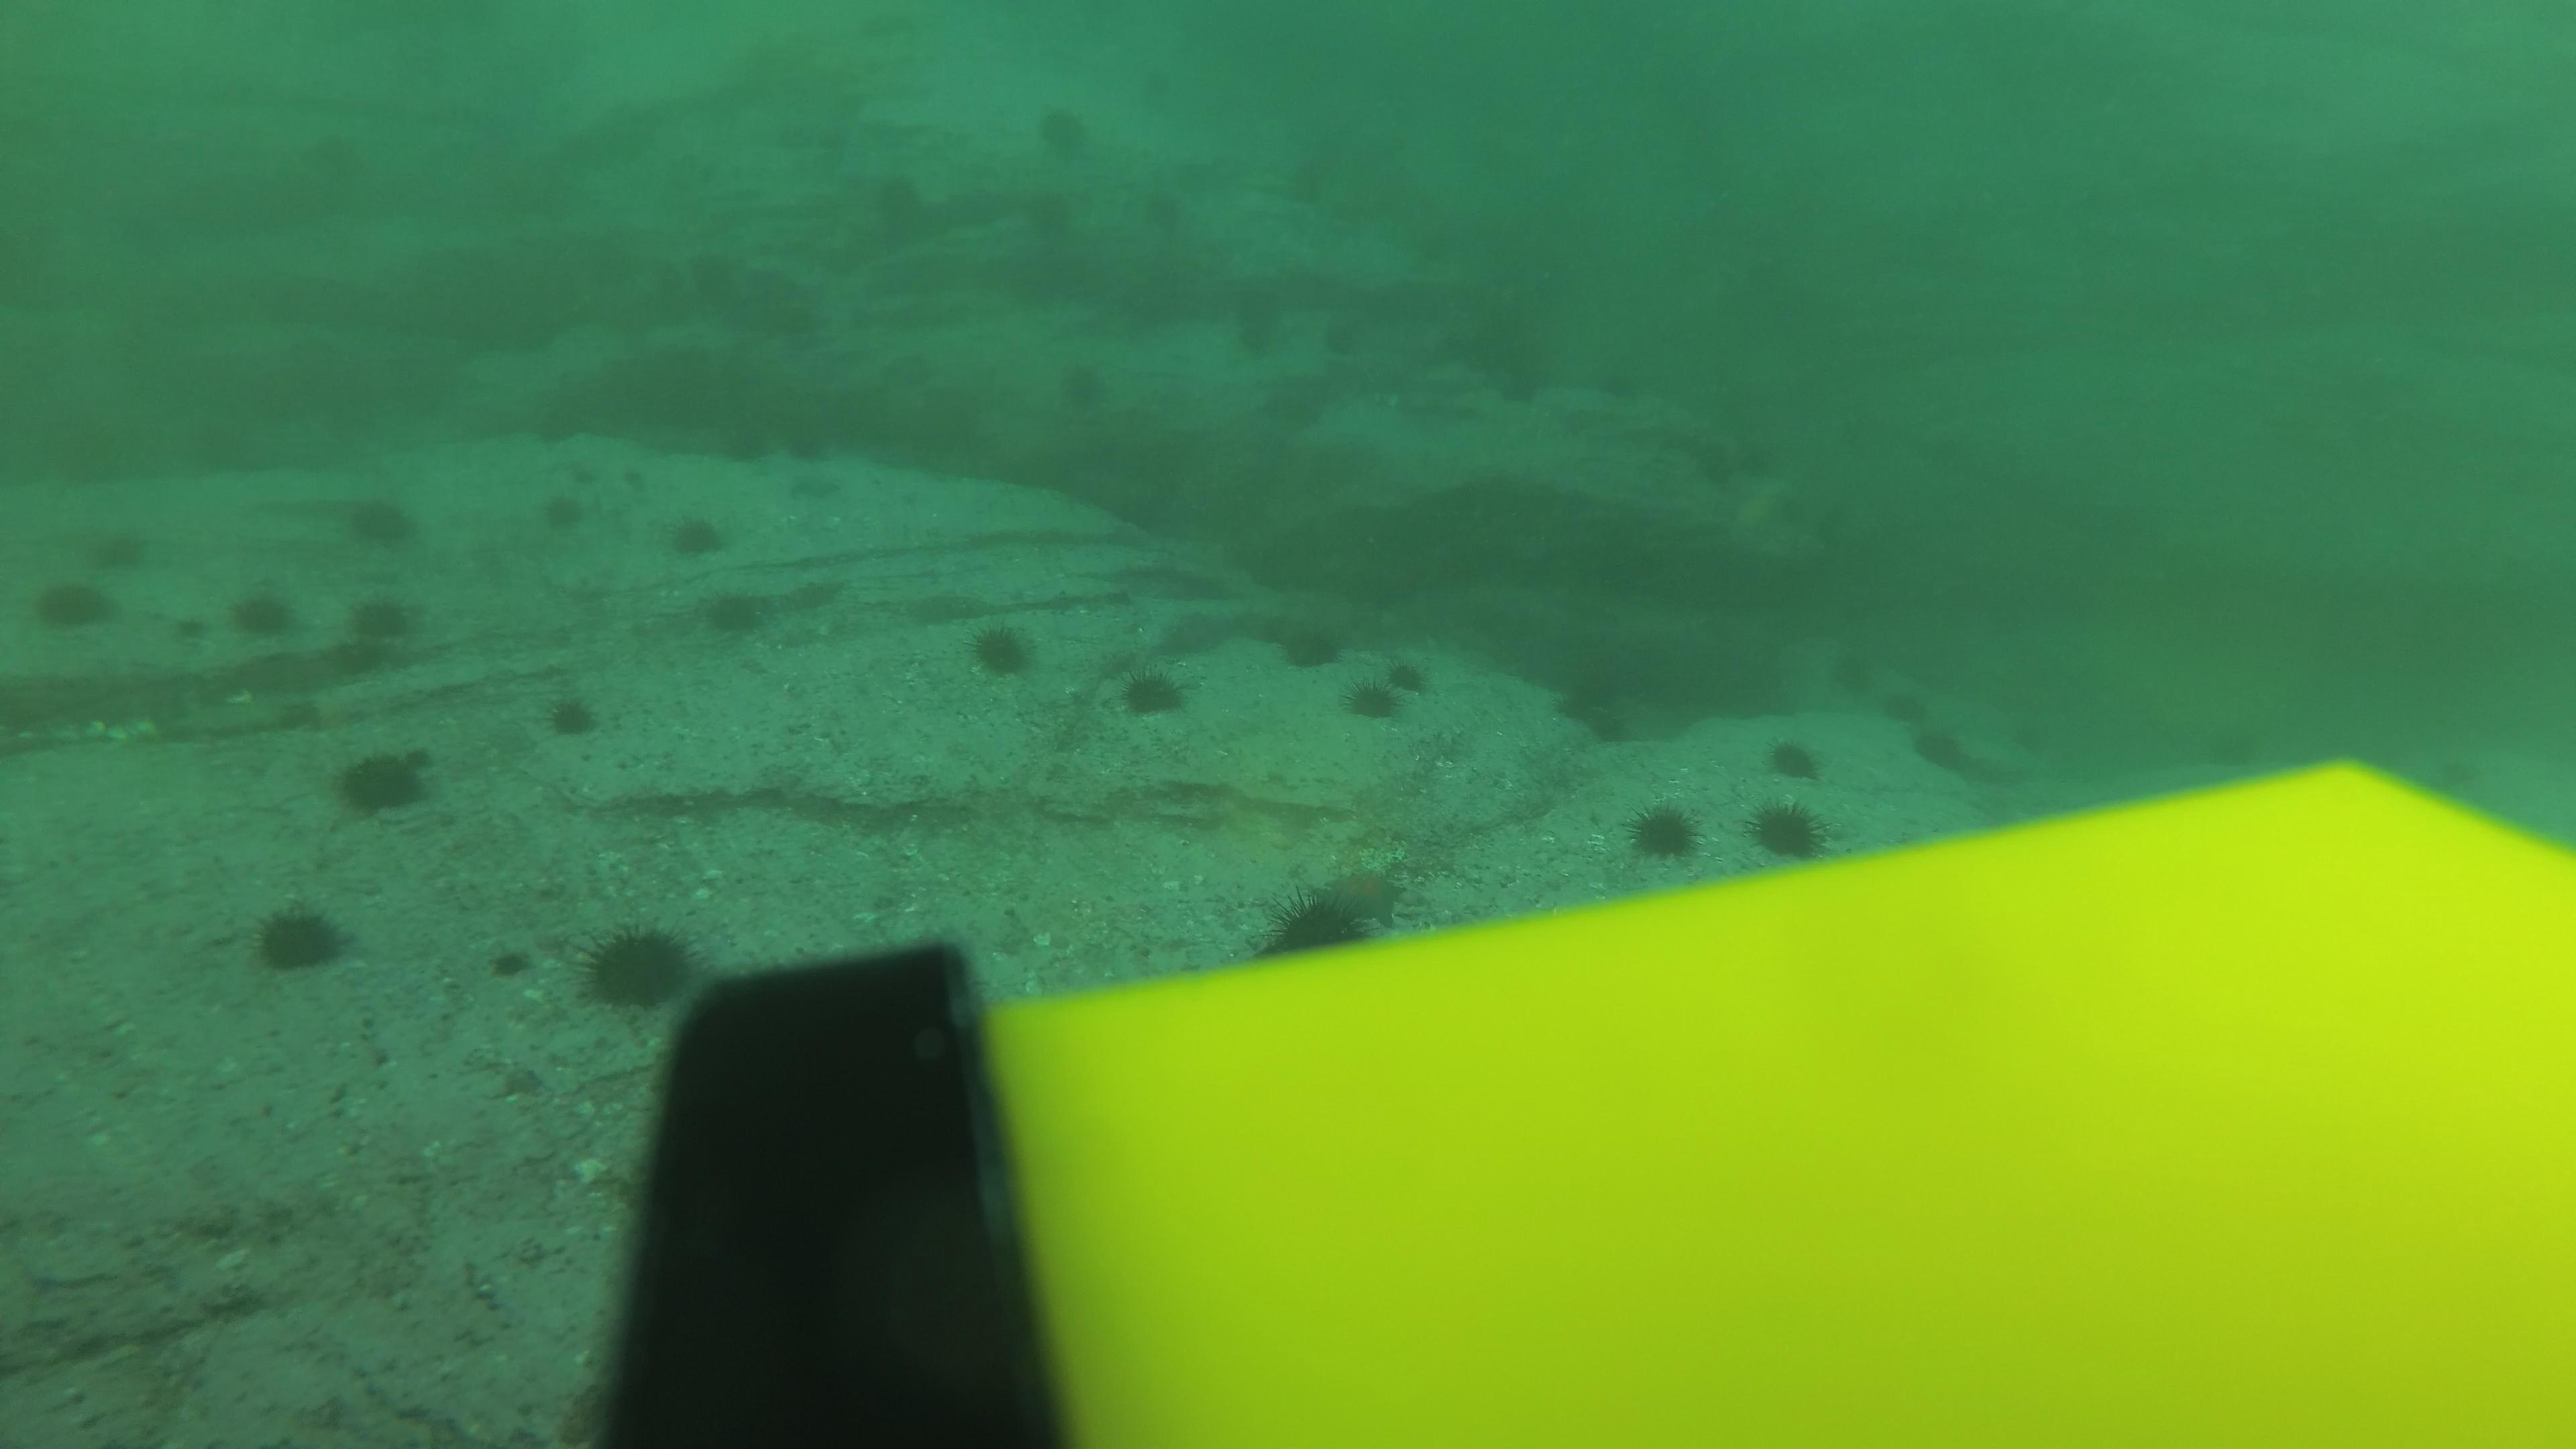echinus: (1254, 869, 1405, 966), (575, 916, 704, 1017), (327, 738, 437, 823), (246, 897, 352, 982), (338, 589, 423, 669), (157, 416, 251, 487), (1744, 794, 1835, 867), (28, 564, 120, 635), (74, 520, 166, 591), (1621, 794, 1704, 867), (338, 487, 423, 556), (961, 616, 1042, 685), (1113, 658, 1196, 725), (223, 579, 303, 644), (297, 127, 377, 193), (874, 338, 954, 403), (1044, 354, 1123, 419), (1102, 292, 1182, 356), (1269, 614, 1350, 676), (697, 582, 773, 644), (1902, 715, 1971, 777), (1875, 686, 1944, 748), (1821, 646, 1890, 708), (1031, 99, 1095, 163), (662, 506, 732, 563), (540, 686, 605, 745), (1338, 674, 1405, 727), (1371, 653, 1438, 704), (1568, 663, 1635, 713), (1762, 732, 1826, 784), (534, 485, 591, 538), (1316, 318, 1373, 372), (1997, 701, 2054, 754), (872, 172, 927, 225), (1237, 283, 1293, 334), (686, 248, 743, 299), (1281, 157, 1338, 209), (1131, 57, 1187, 108), (725, 421, 782, 472), (525, 403, 582, 455), (1256, 386, 1313, 437), (1490, 364, 1546, 416), (1599, 364, 1656, 416), (1141, 188, 1196, 239), (1024, 188, 1079, 239), (1237, 318, 1286, 368), (1580, 699, 1629, 741), (1550, 692, 1587, 724)
starfish: (1307, 863, 1414, 932), (782, 460, 847, 508)
